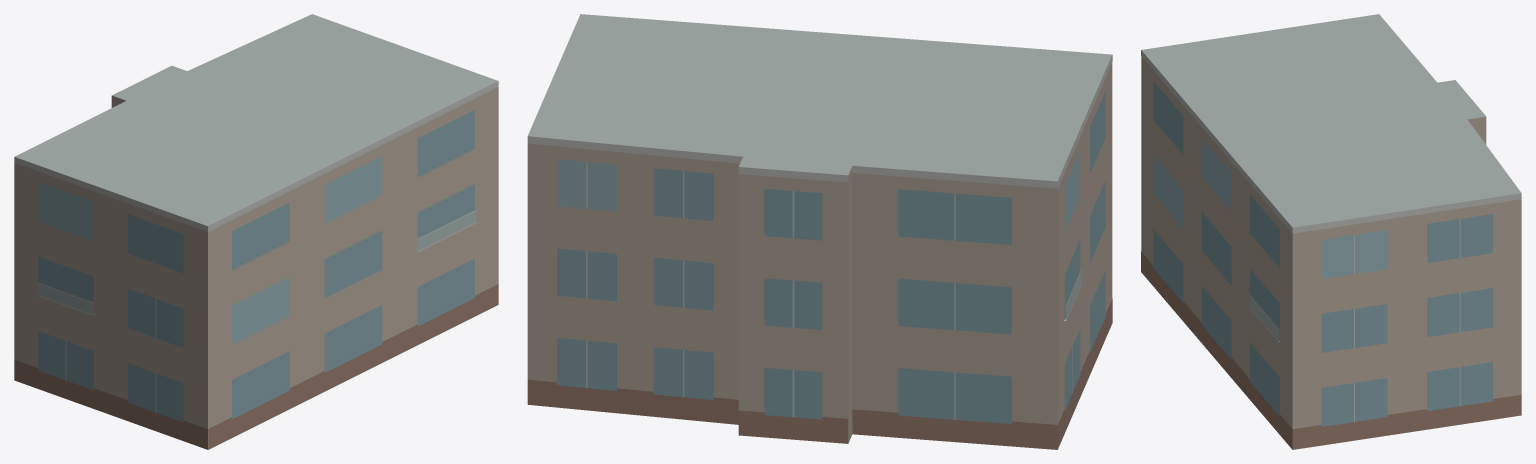
Rendered from survey-upis-32703727.glb.
3 views of the same model, side by side, from view 1: azimuth 30°, elevation 25°; view 2: azimuth 150°, elevation 25°; view 3: azimuth 270°, elevation 25° (orthographic). The views are drawn at different scales.
Parts seen in each view (by area): view 1: survey-upis-32703727.tmp; view 2: survey-upis-32703727.tmp; view 3: survey-upis-32703727.tmp.
Boxes of the visible parts, bbox=[...] form: survey-upis-32703727.tmp: bbox=[14, 14, 498, 449]; survey-upis-32703727.tmp: bbox=[527, 14, 1112, 449]; survey-upis-32703727.tmp: bbox=[1141, 14, 1521, 449].
Size of the model in its own units: 18.89 by 9.15 by 14.22.
